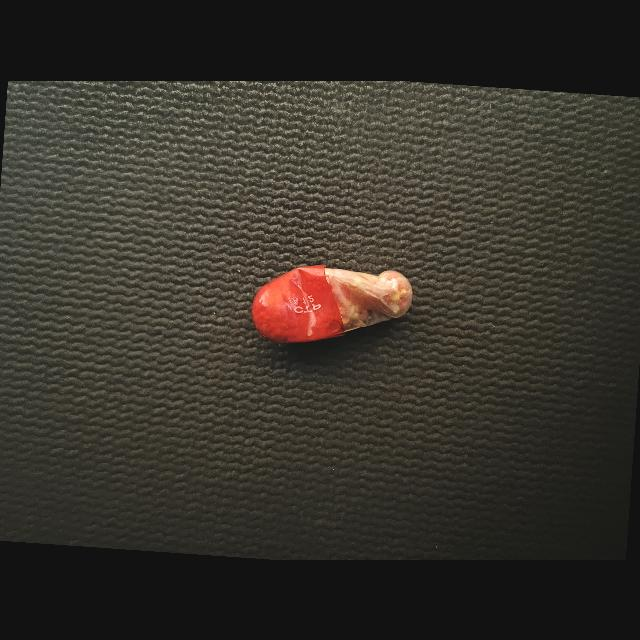Defective Capsule: (252, 264, 412, 342)
